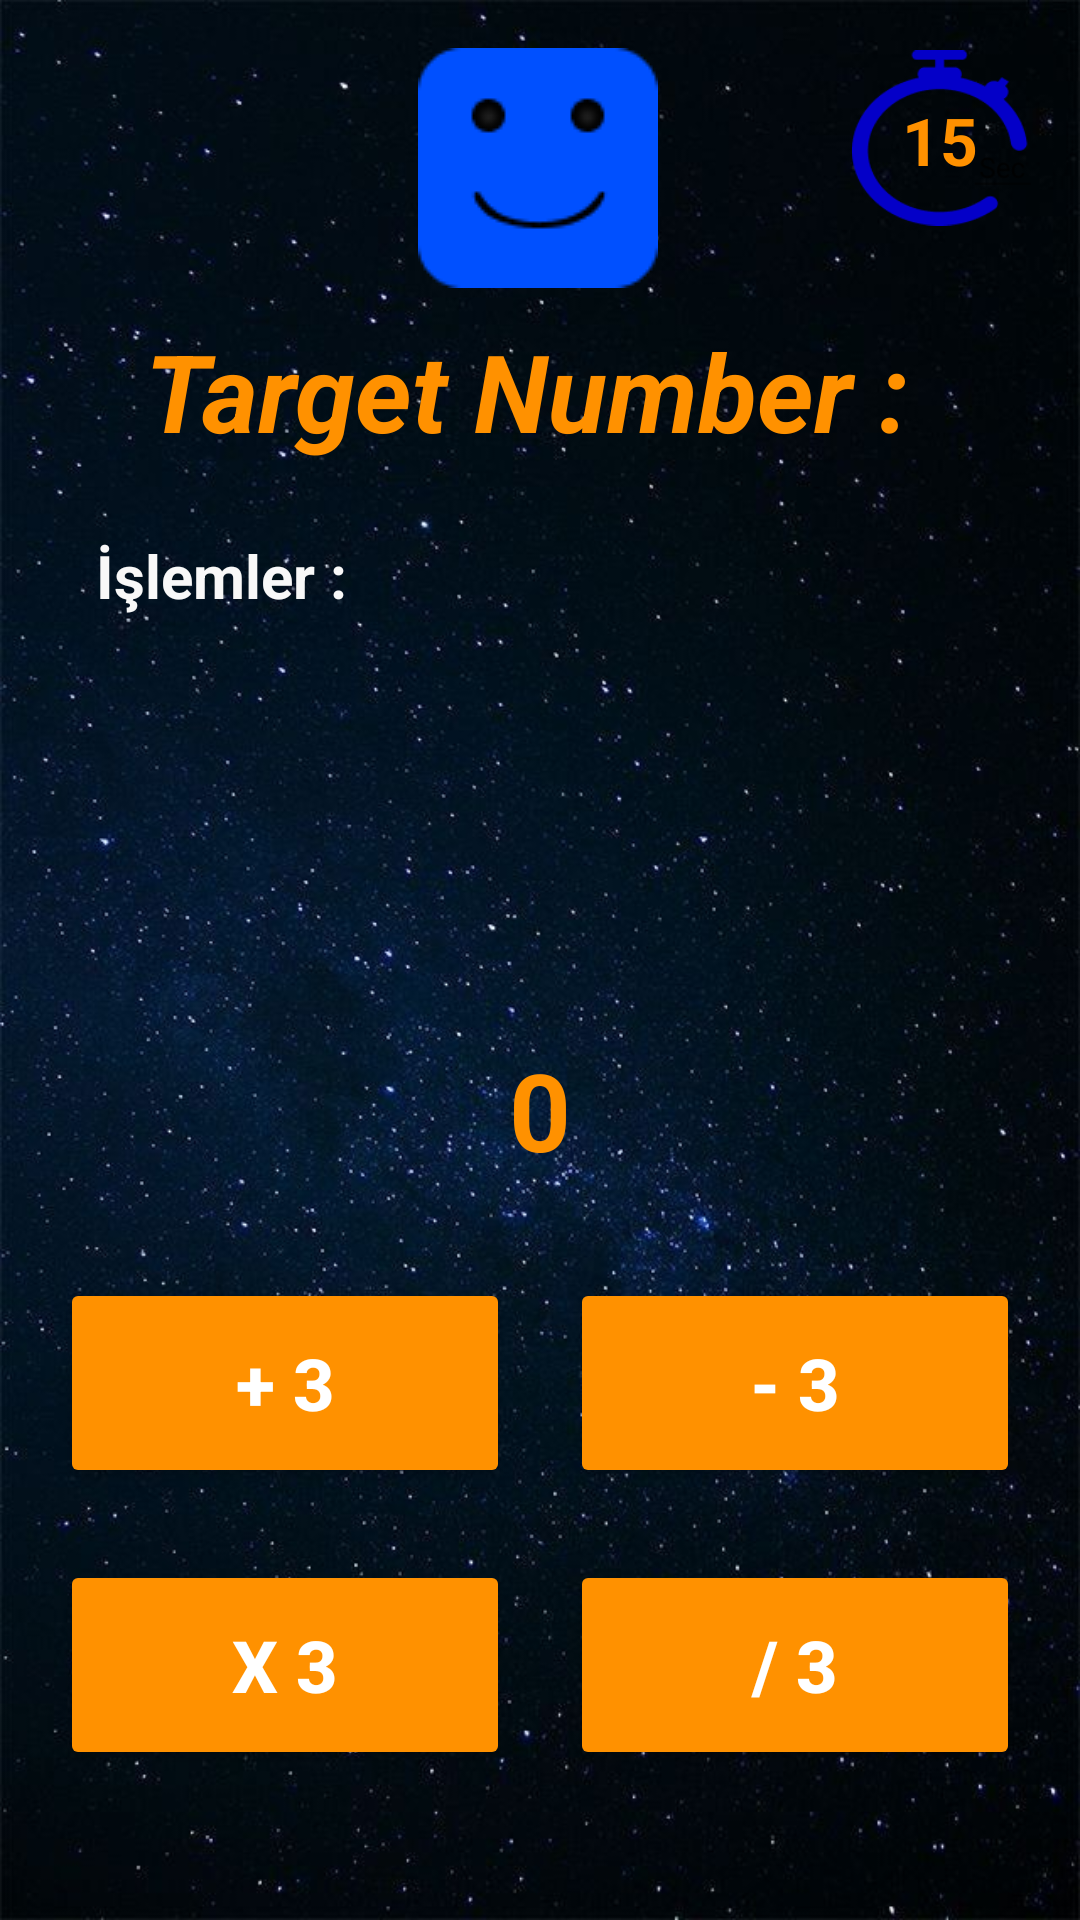

Screen size 1080*1920. Icon name, then its center in pixels as (x=x, y=y):
timer: (x=940, y=137)
